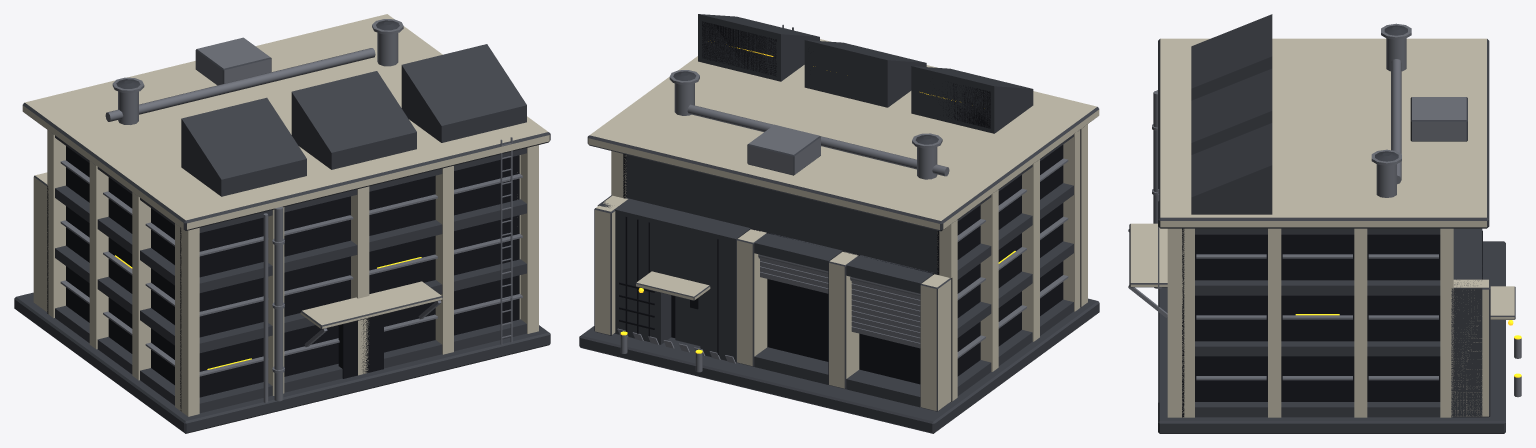
The model's file is shutter_workshop.glb.
3 renders of one model, left to right at view 1: azimuth 30°, elevation 25°; view 2: azimuth 150°, elevation 25°; view 3: azimuth 270°, elevation 25°, orthographic. The views are drawn at different scales.
Parts seen in each view (by area): view 1: shutter_workshop; view 2: shutter_workshop; view 3: shutter_workshop.
Part boxes in pixels (bbox=[...]): shutter_workshop: bbox=[14, 14, 550, 433]; shutter_workshop: bbox=[579, 14, 1099, 433]; shutter_workshop: bbox=[1128, 14, 1521, 433].
Size of the model in its own units: 18 by 12.3 by 16.51.
